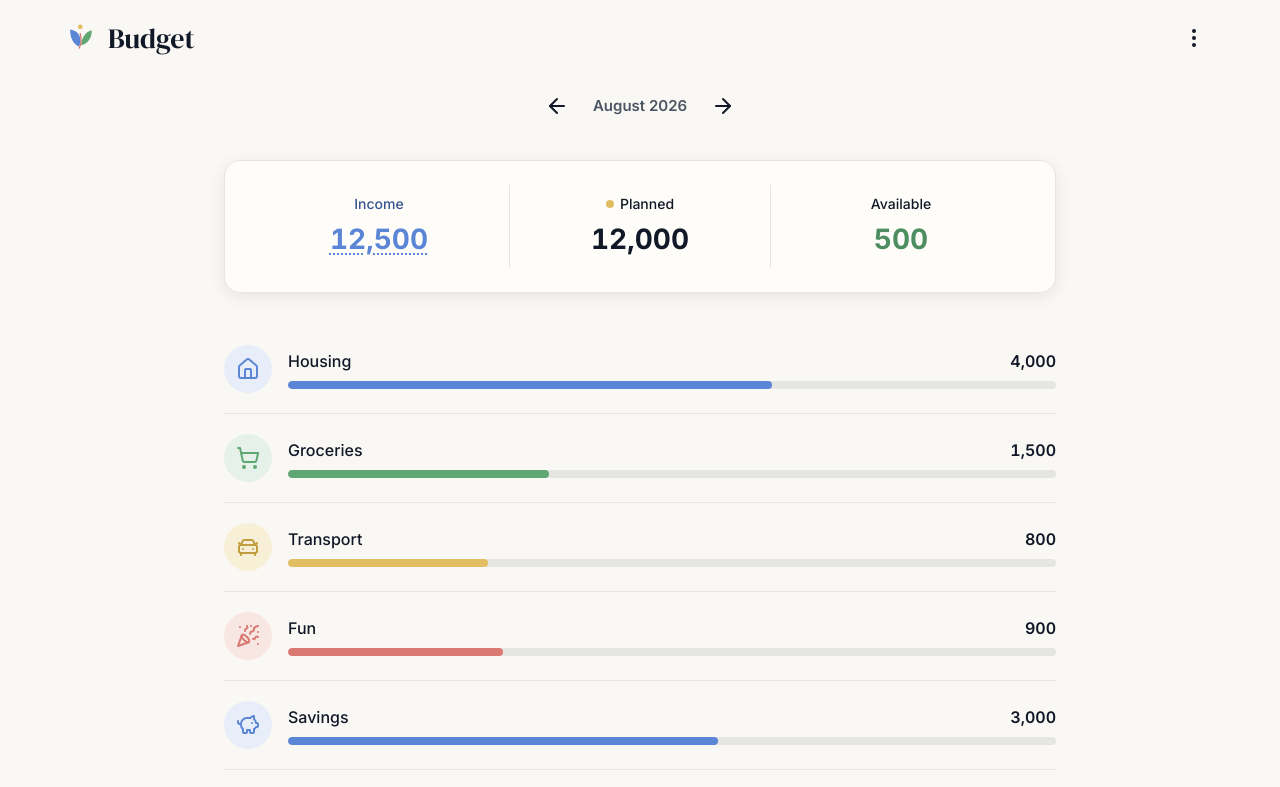
Scenario: BudgetPage › has no 'Edit budget' menu item (CR1-8) and offers Insights
Check: the button "12,500" is shown, box [322, 214, 436, 264]
Click the button named "More options" at (1194,38), box [1172, 16, 1216, 60]
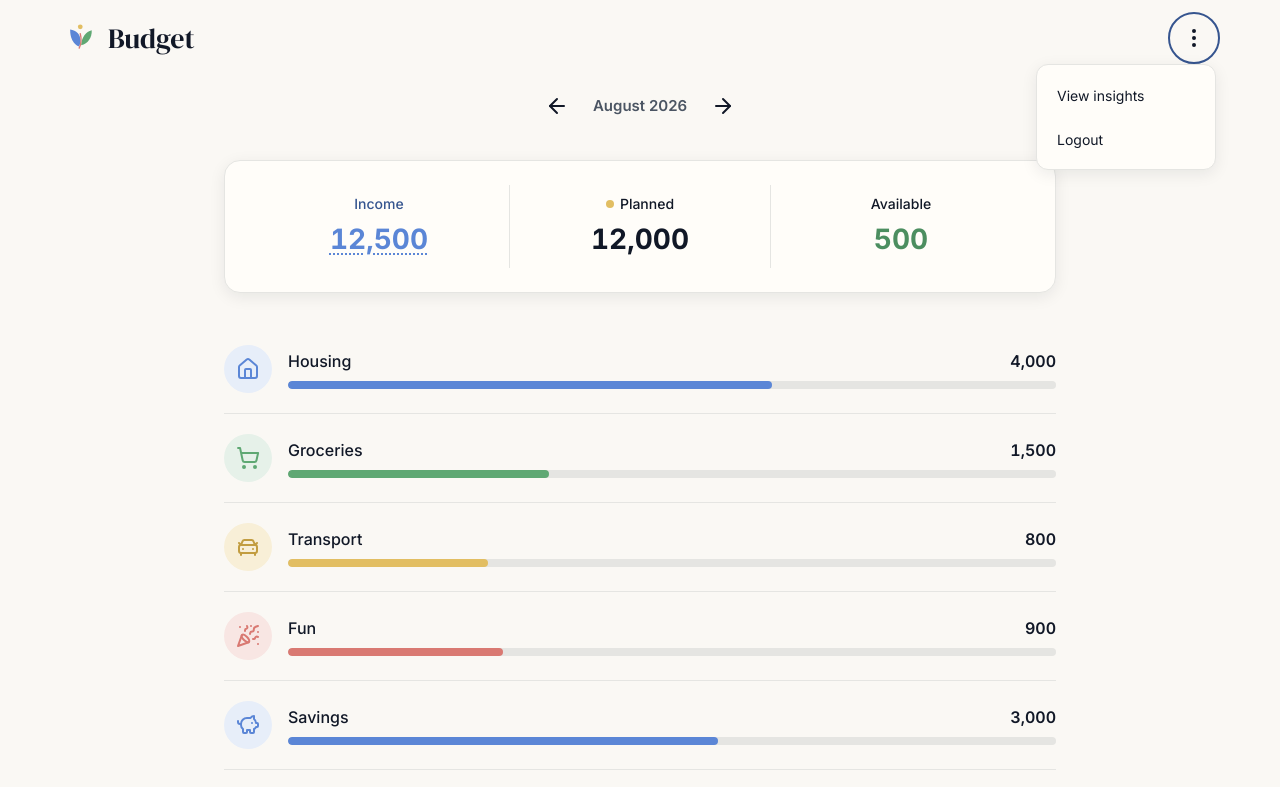
Check: the menu item "View insights" is shown, box [1045, 73, 1207, 117]
